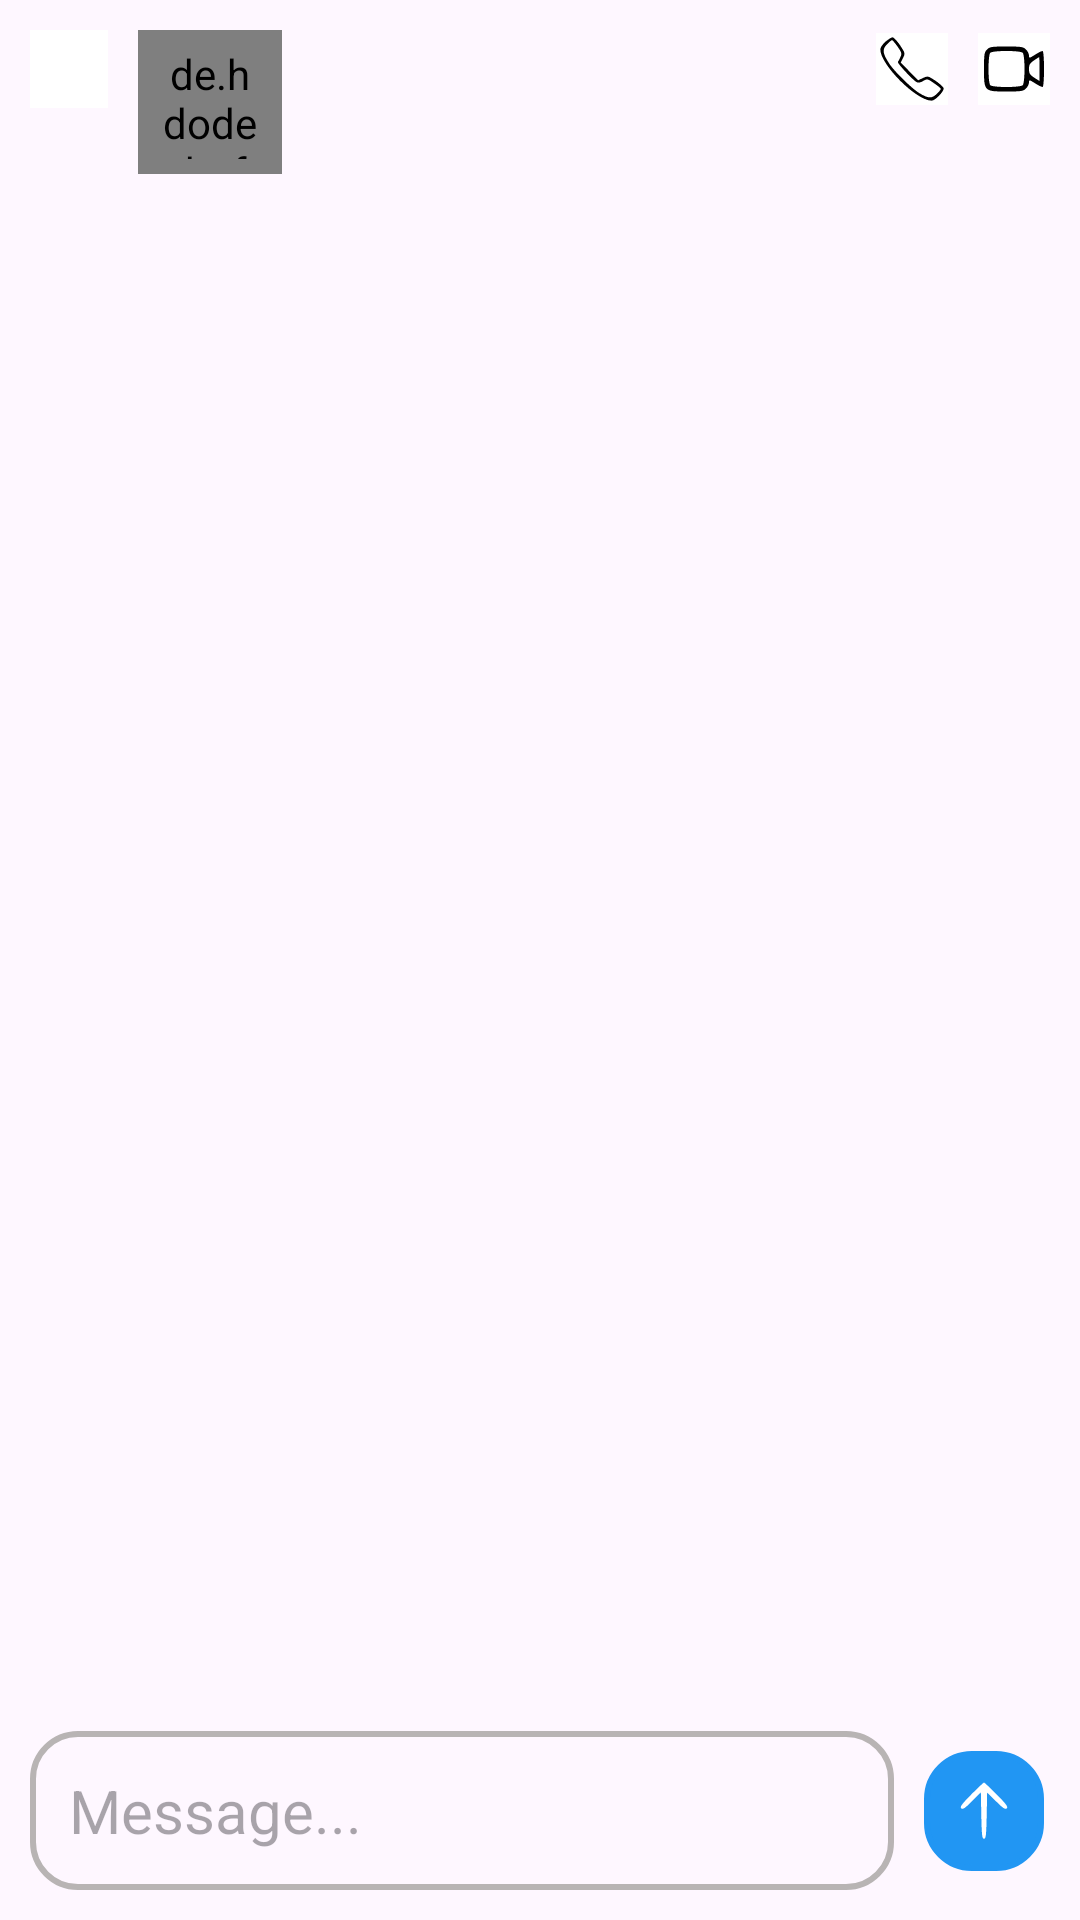

Locate icon controls on the screen. Image size 1080px x 1920px, boxes as (x1, y1, x2, y2).
call: (880, 37, 944, 101)
video call: (984, 46, 1044, 92)
